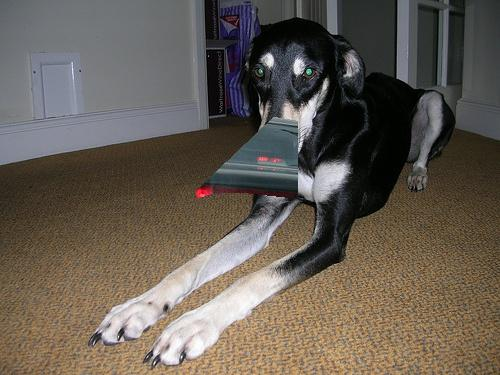tampered: (196, 118, 298, 198)
